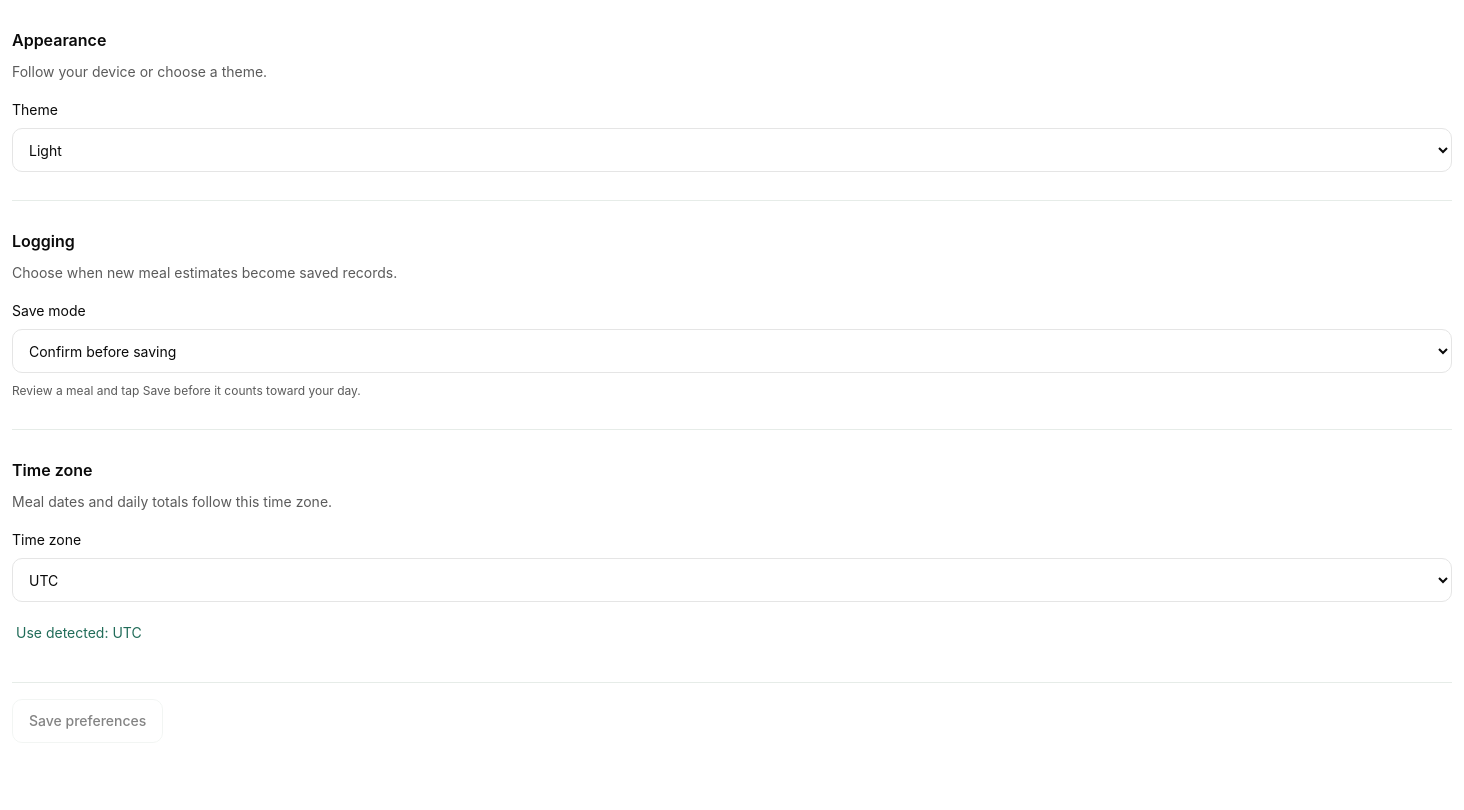
it: retains preferences after failure and applies the theme only after save
Step 1. Select "Dark" in the dropdown labelled "Theme" → (732, 150), box [12,128,1452,172]
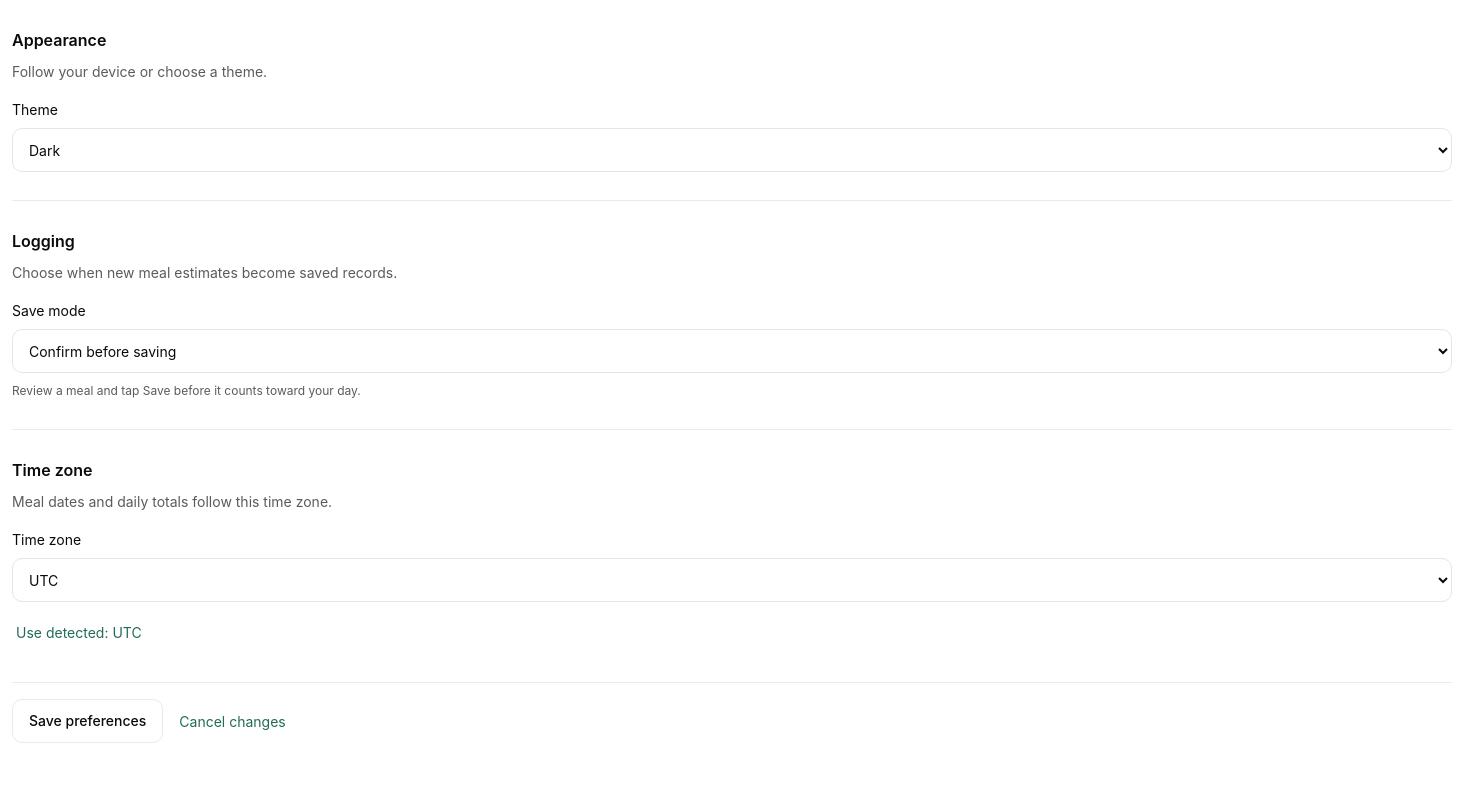
Step 2. Select "Auto-save" in the dropdown labelled "Save mode" → (732, 351), box [12,329,1452,373]
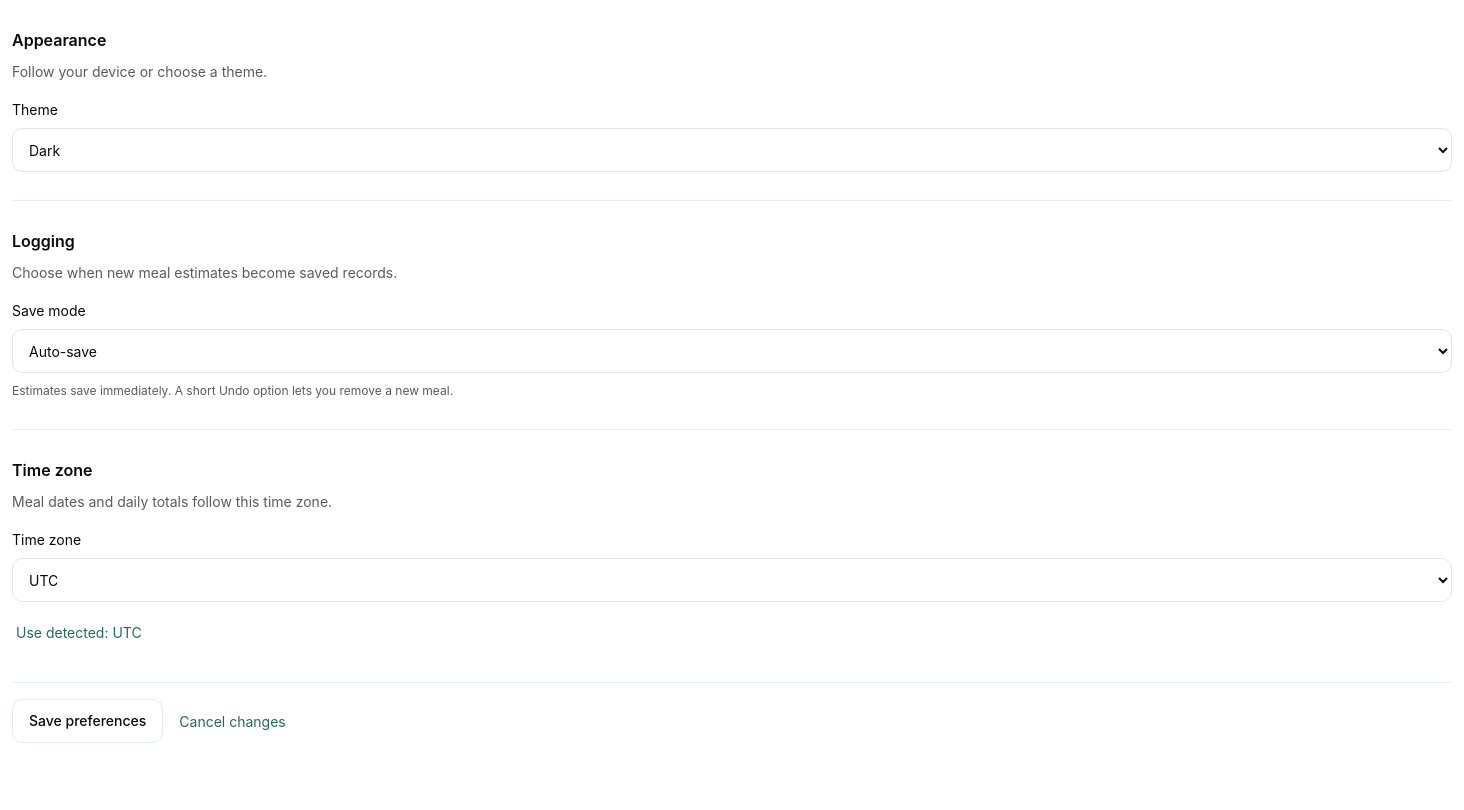
Step 3. Select "America/Los Angeles" in the dropdown labelled "Time zone" → (732, 580), box [12,558,1452,602]
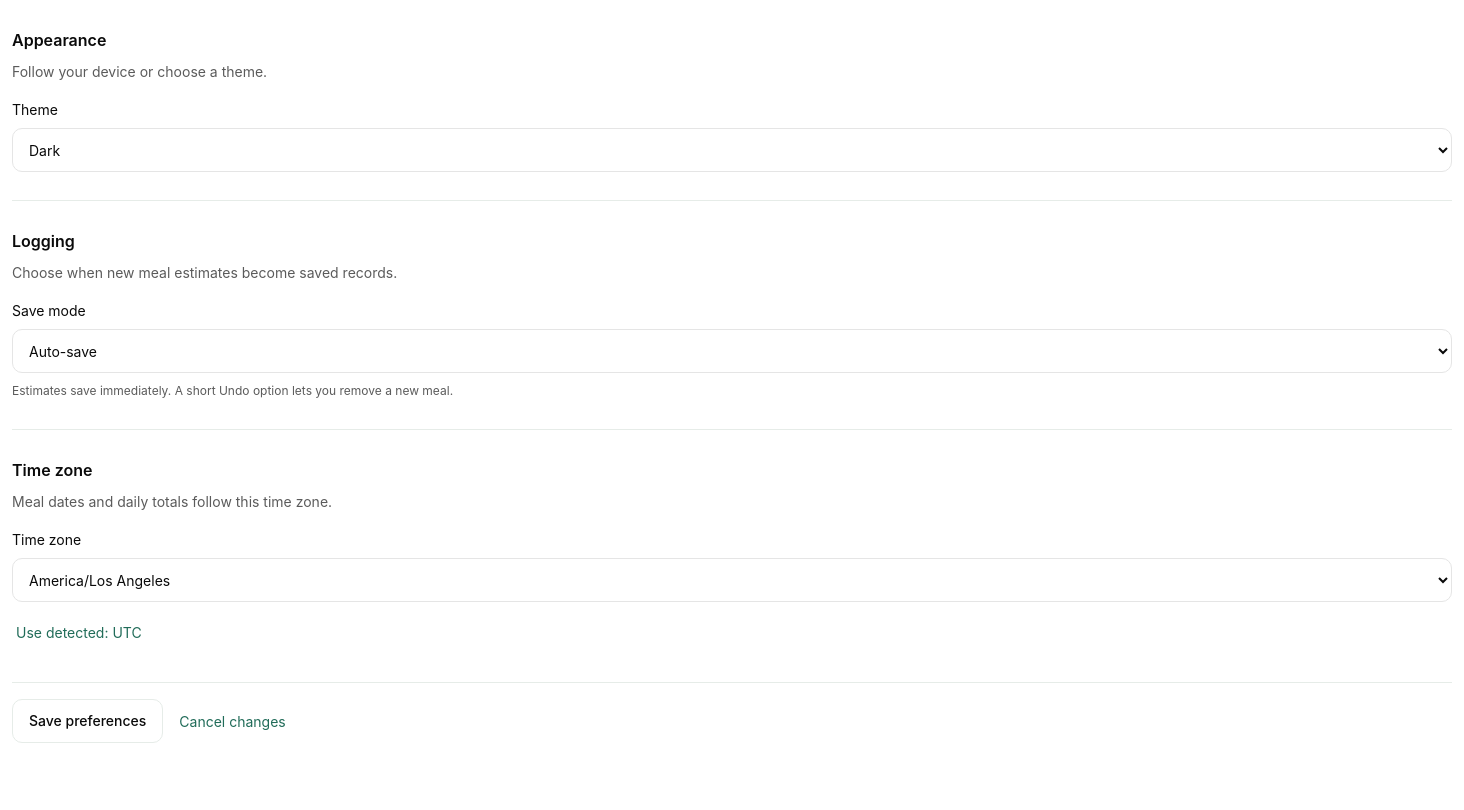
Step 4. Click the button "Save preferences" → (88, 721), box [12,699,163,743]
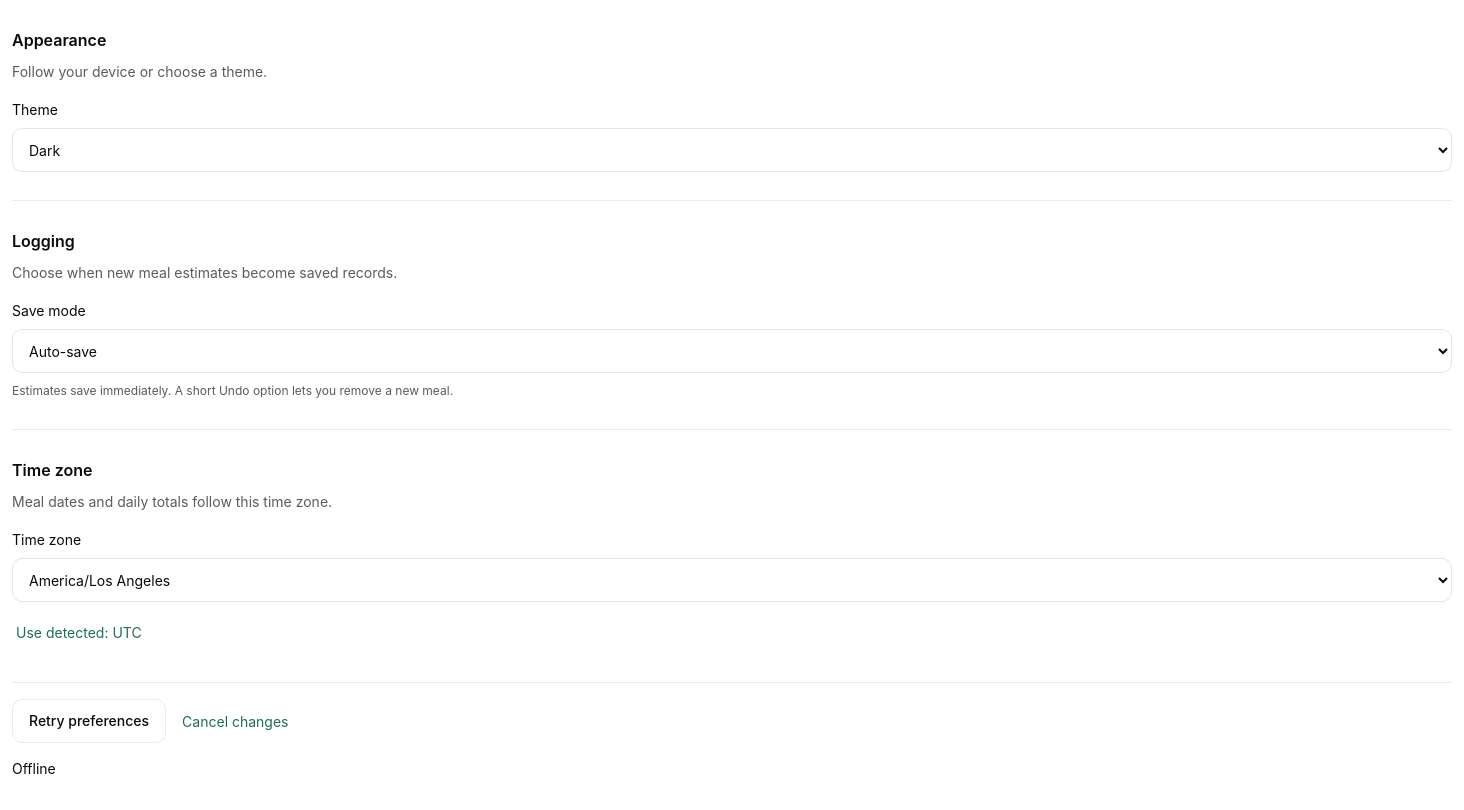
expect the text "Offline" is shown: met, box [12,760,56,777]
Step 5. Click the button "Retry preferences" → (89, 721), box [12,699,166,743]
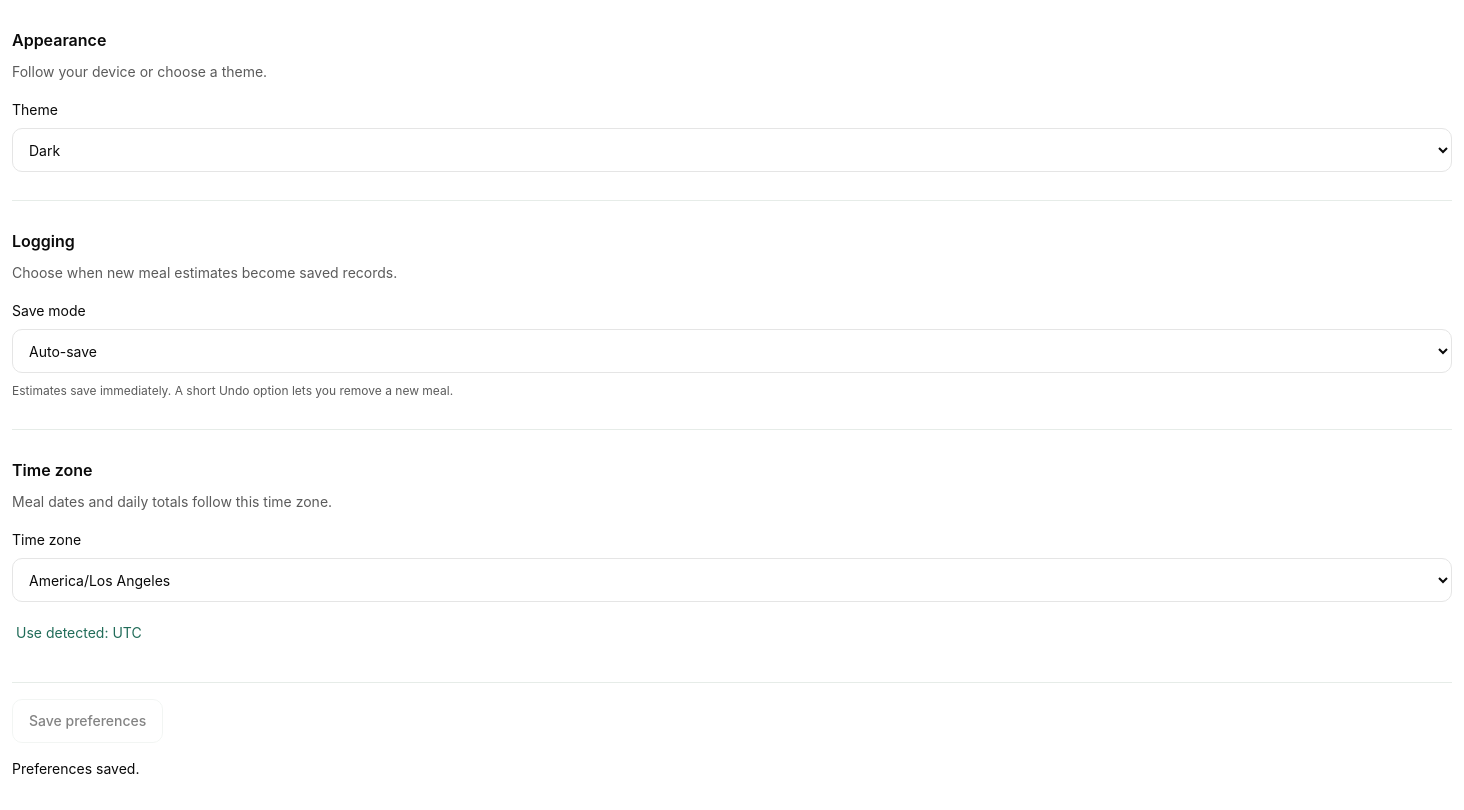
expect the text "Preferences saved." is shown: met, box [12,760,140,777]
